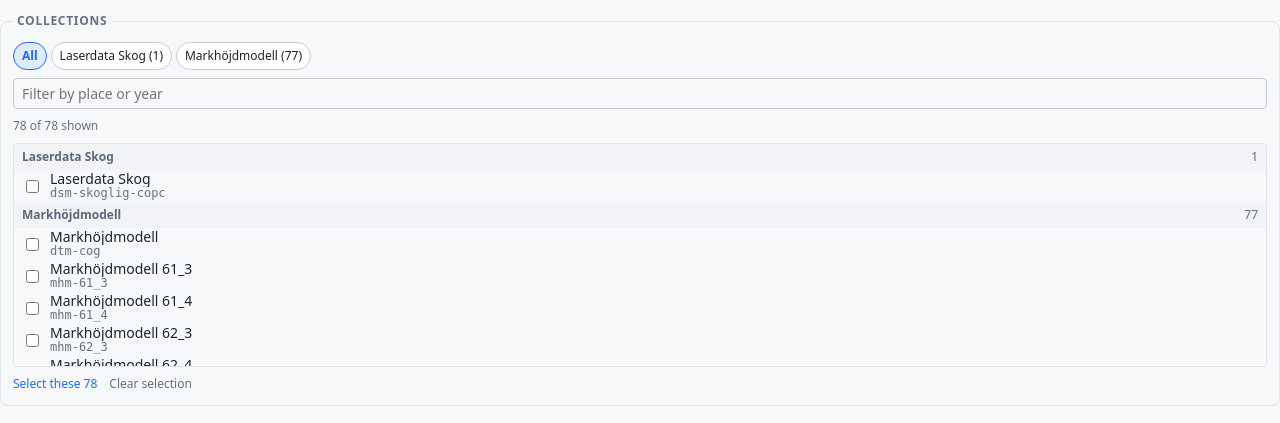
Test case: product grouping › combines with the search box — both narrow at once
This screenshot has width=1280, height=423.
Click the button "Markhöjdmodell (77)" at (244, 56), box [176,42,311,70]
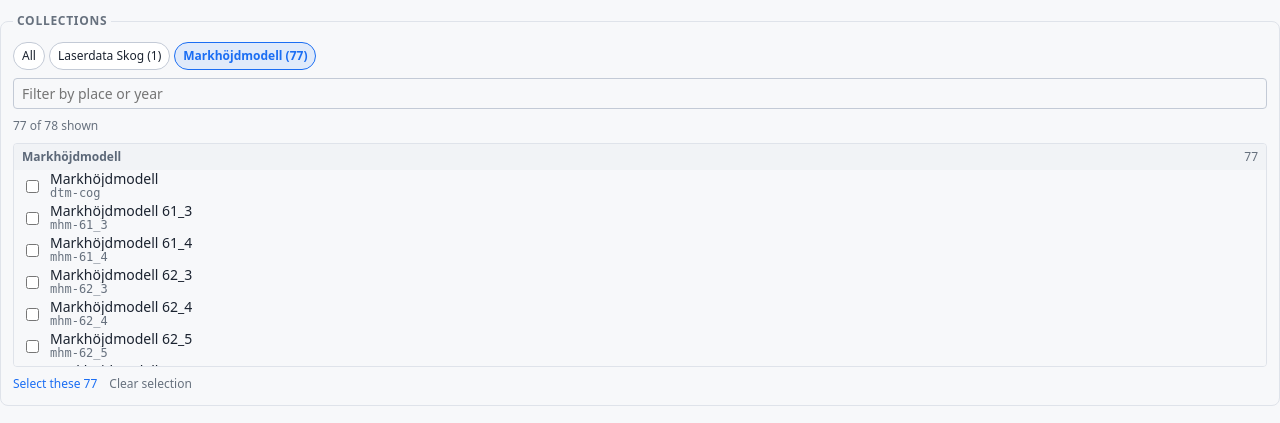
Type "dtm" into the search field with placeholder "Filter by place or year" at (640, 94), box [13,78,1267,109]
Wait 200 ms
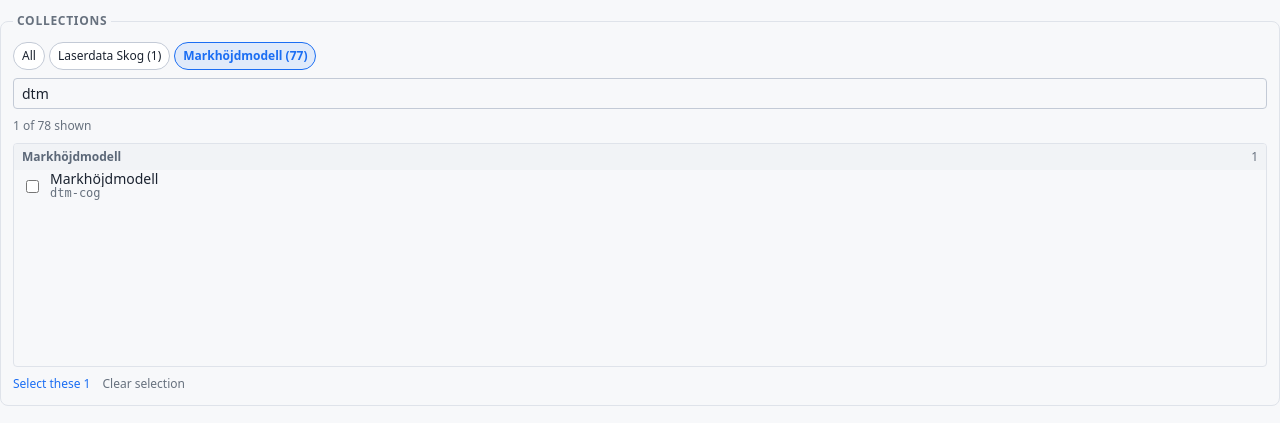
Result: the message with class "status" shows "1 of 78" at [13,117,91,134]
